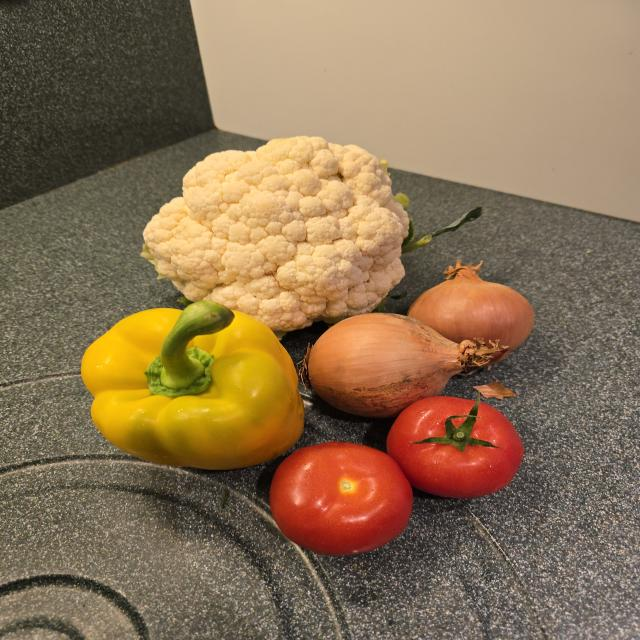Bell Pepper: (81, 300, 304, 469)
Cauliflower: (143, 136, 412, 331)
Onion: (308, 313, 492, 418), (408, 261, 534, 364)
Tomato: (270, 442, 413, 556), (387, 396, 523, 498)
